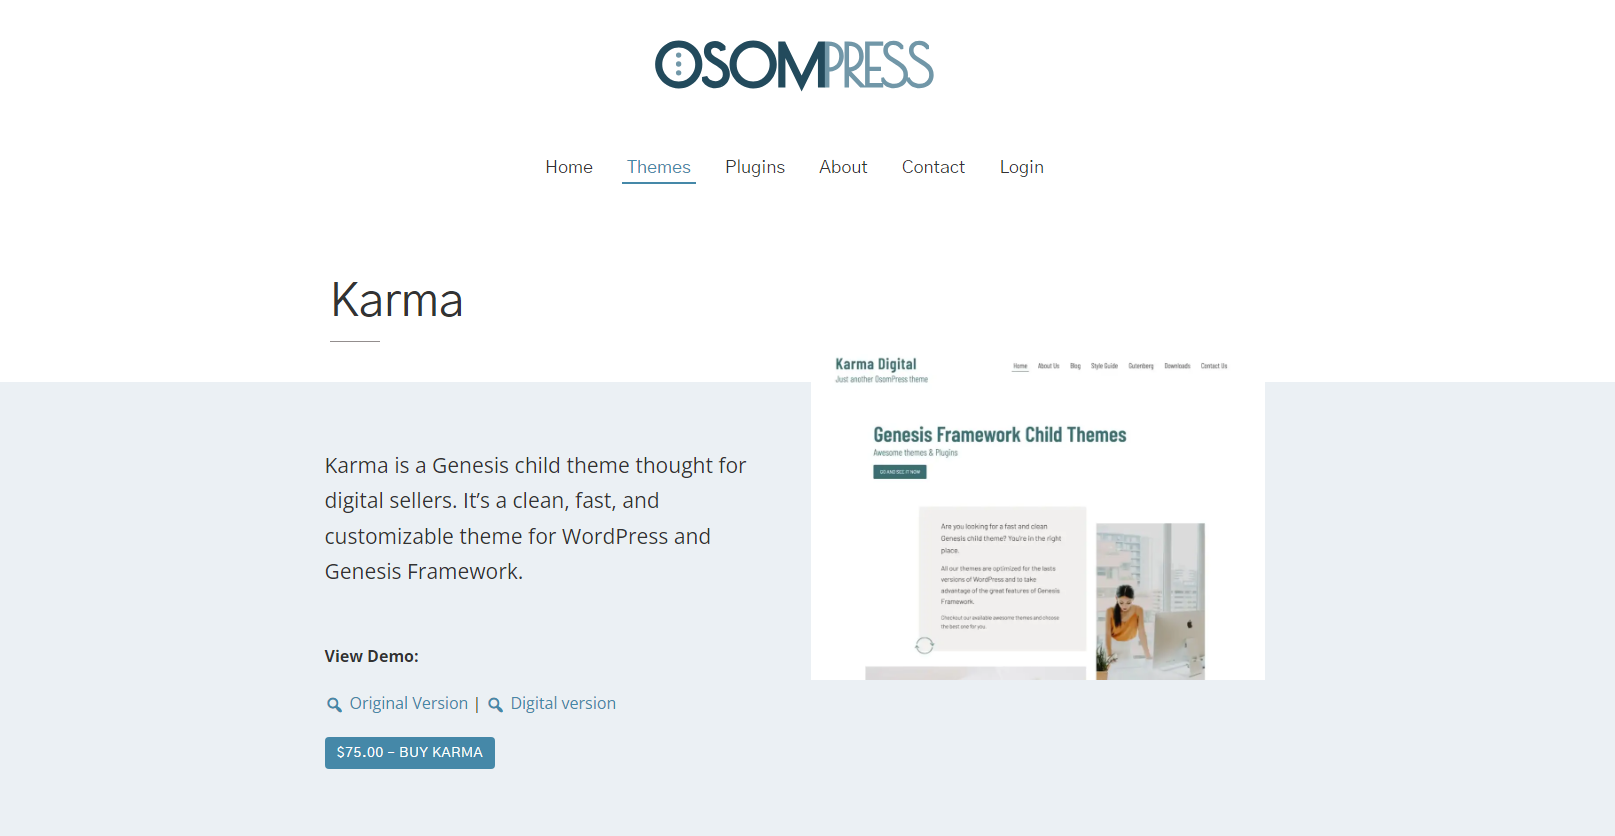menu-bar: (106, 25, 1550, 266)
